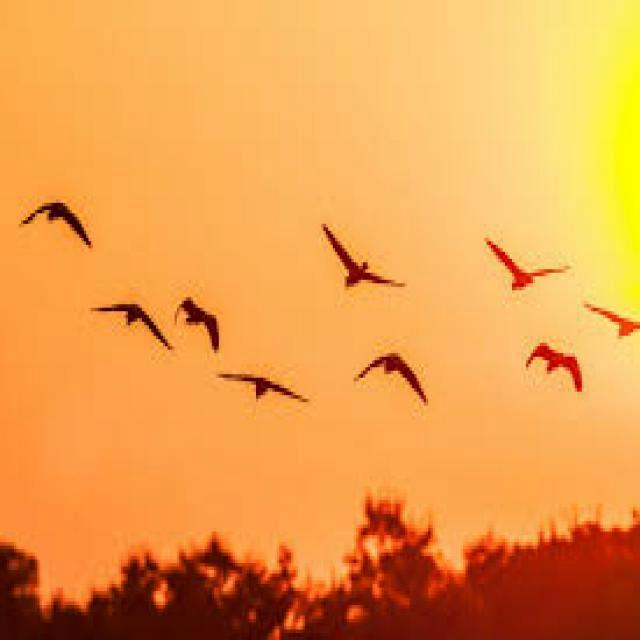bird: (474, 217, 576, 308), (82, 285, 174, 383), (316, 222, 406, 314), (334, 332, 439, 409), (210, 353, 314, 420), (18, 183, 102, 260), (170, 290, 238, 364), (528, 337, 591, 404), (575, 295, 640, 349)
